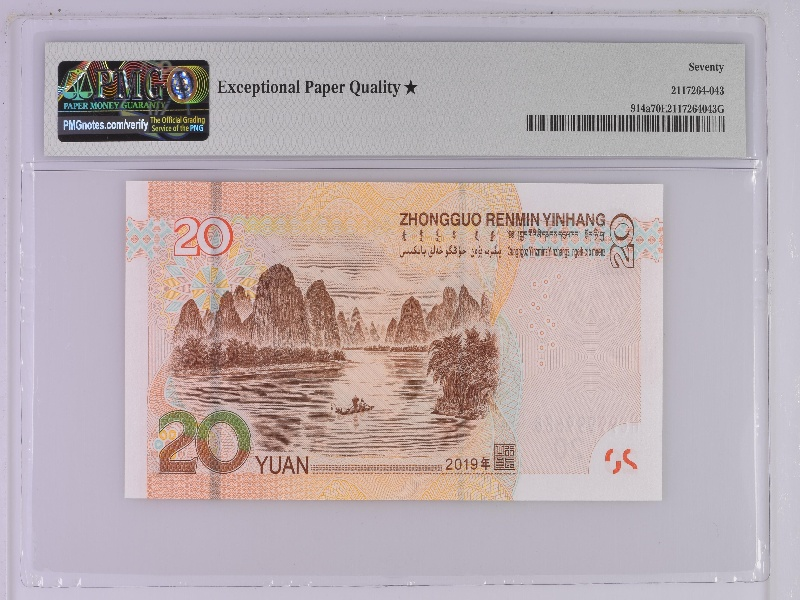papernote: (124, 177, 664, 503)
